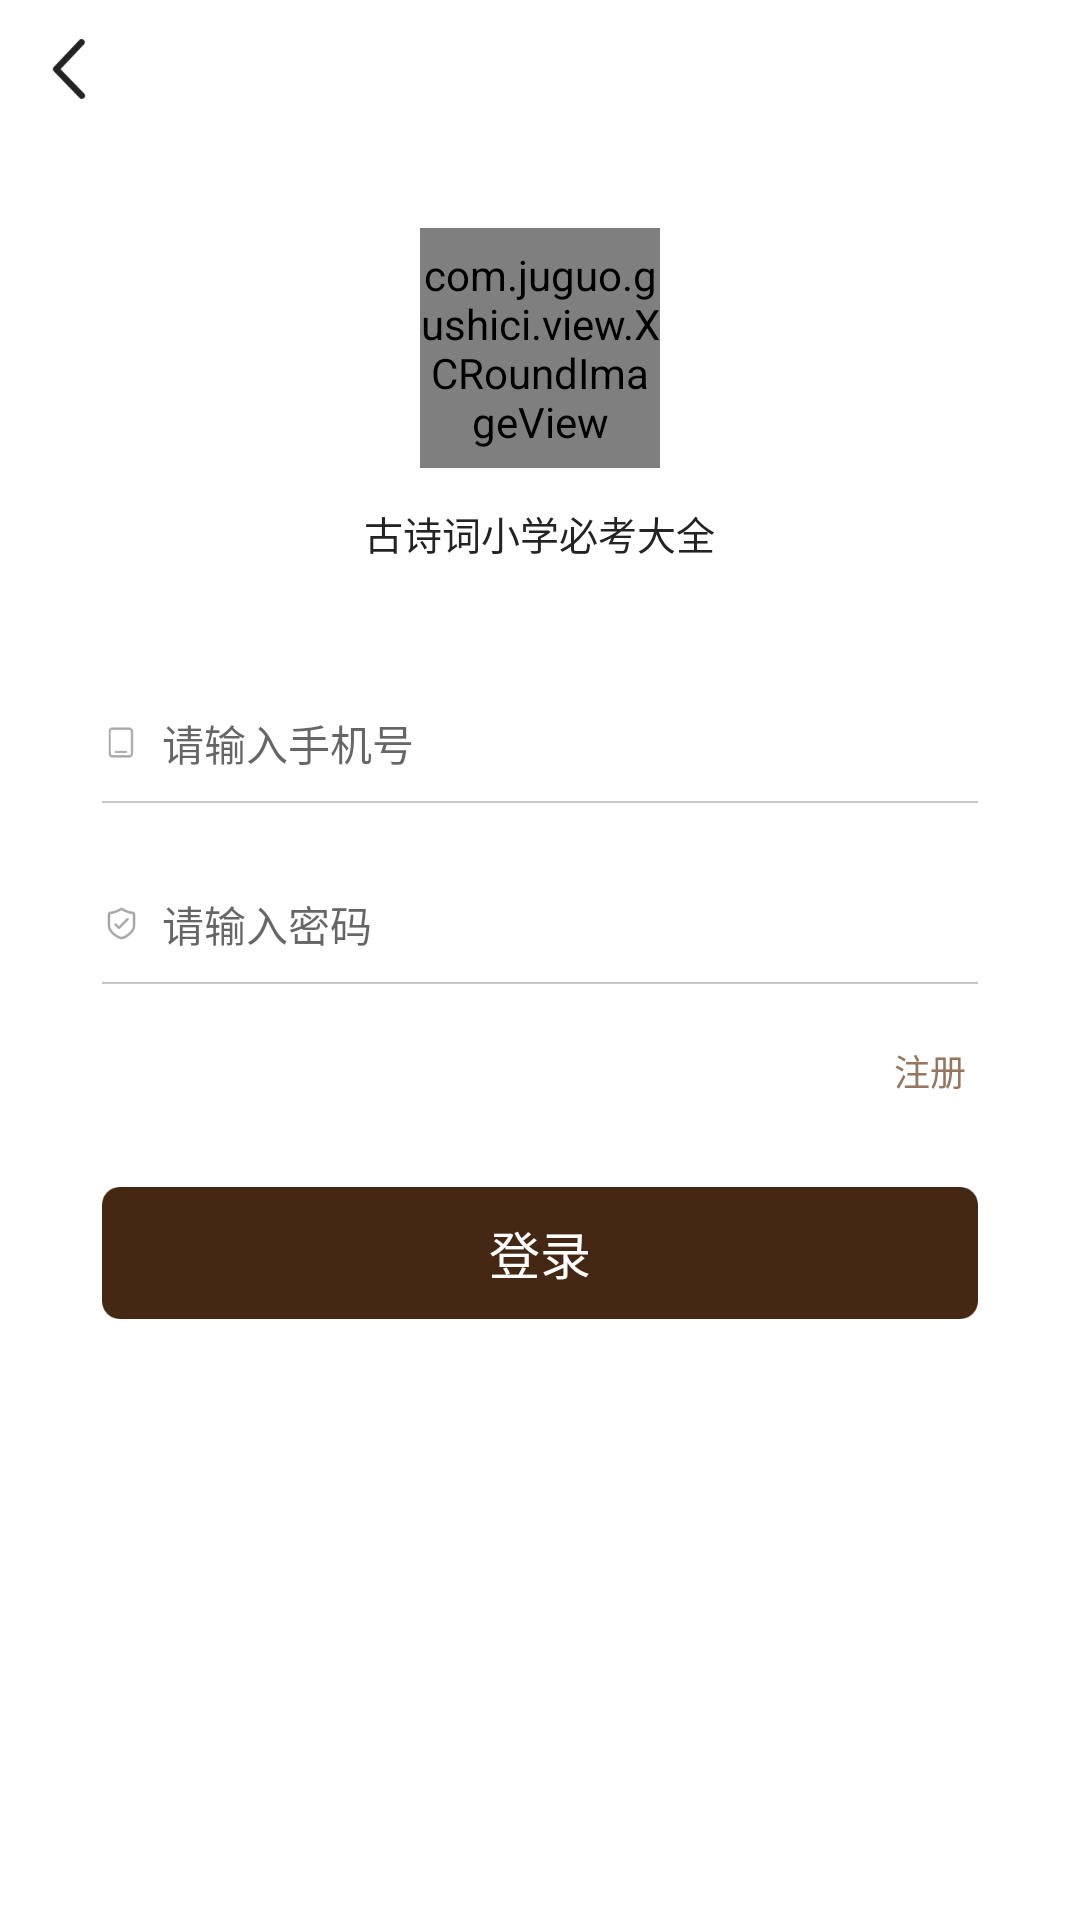

Icons on this 1080px×1920px Android screen, each with the point to tap as point (x, y):
arrow left: point (69, 69)
password: point (122, 923)
phone: point (121, 742)
